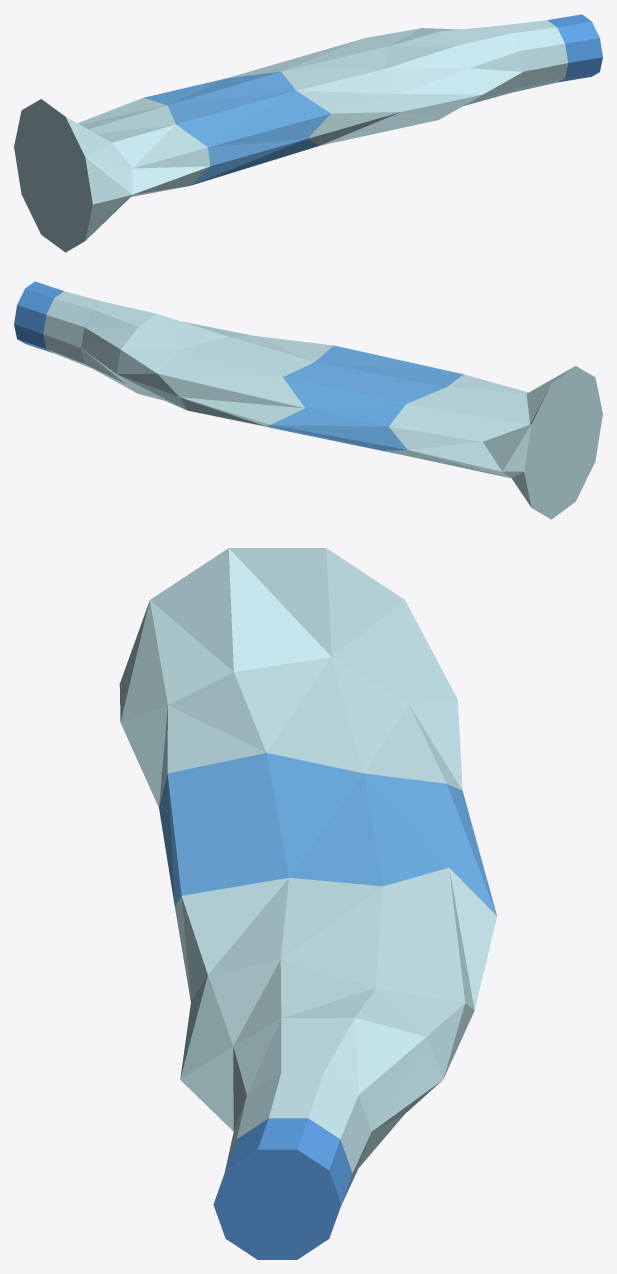
Rendered from Trash_BottleCrushed.fbx.
The picture shows the model from 3 angles, top to bottom: view 1: azimuth 30°, elevation 25°; view 2: azimuth 150°, elevation 25°; view 3: azimuth 270°, elevation 25°; orthographic projection. The views are drawn at different scales.
Visible parts, largest first — view 1: Trash_BottleCrushed; view 2: Trash_BottleCrushed; view 3: Trash_BottleCrushed.
Boxes of the visible parts, box(x1,y1,x2,y2) form: Trash_BottleCrushed: box(14, 14, 602, 252); Trash_BottleCrushed: box(14, 281, 602, 519); Trash_BottleCrushed: box(119, 548, 497, 1259).
Bounding box in the file's own units: 0.25 × 0.0609 × 0.0766.
